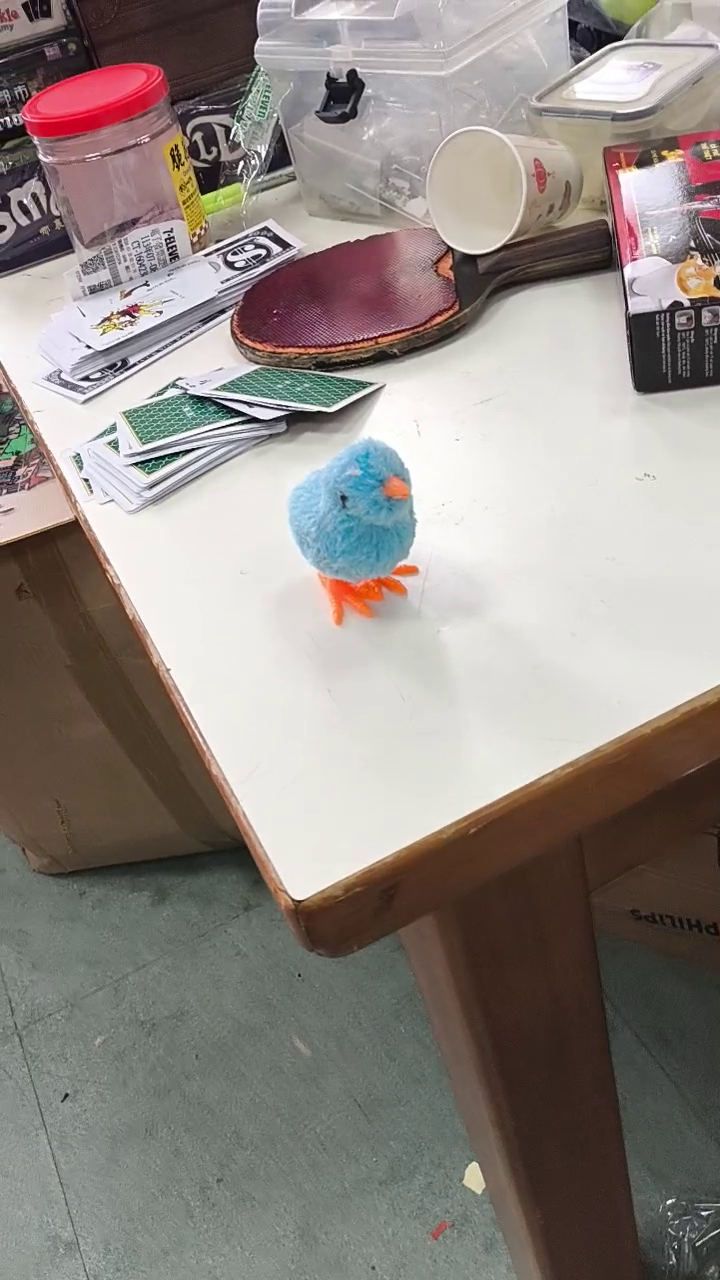blue chicken: (286, 434, 424, 630)
